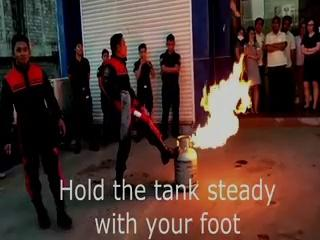Fire: (177, 26, 260, 158)
